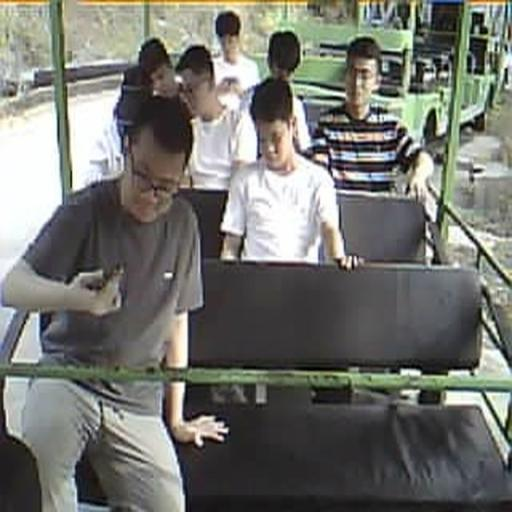persona: (2, 83, 230, 511), (218, 76, 364, 270), (307, 35, 438, 221), (84, 68, 192, 191), (174, 44, 258, 191), (238, 30, 312, 158), (210, 10, 260, 98), (138, 38, 182, 99)
